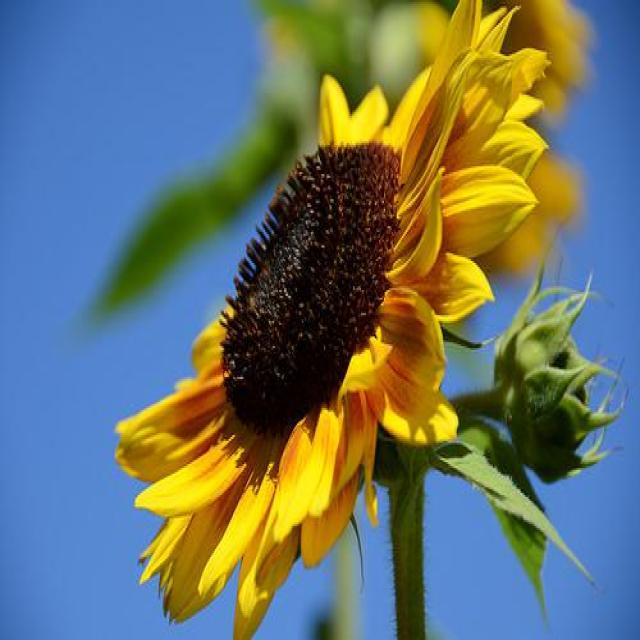sunflower: (114, 2, 550, 640), (420, 1, 593, 126)
